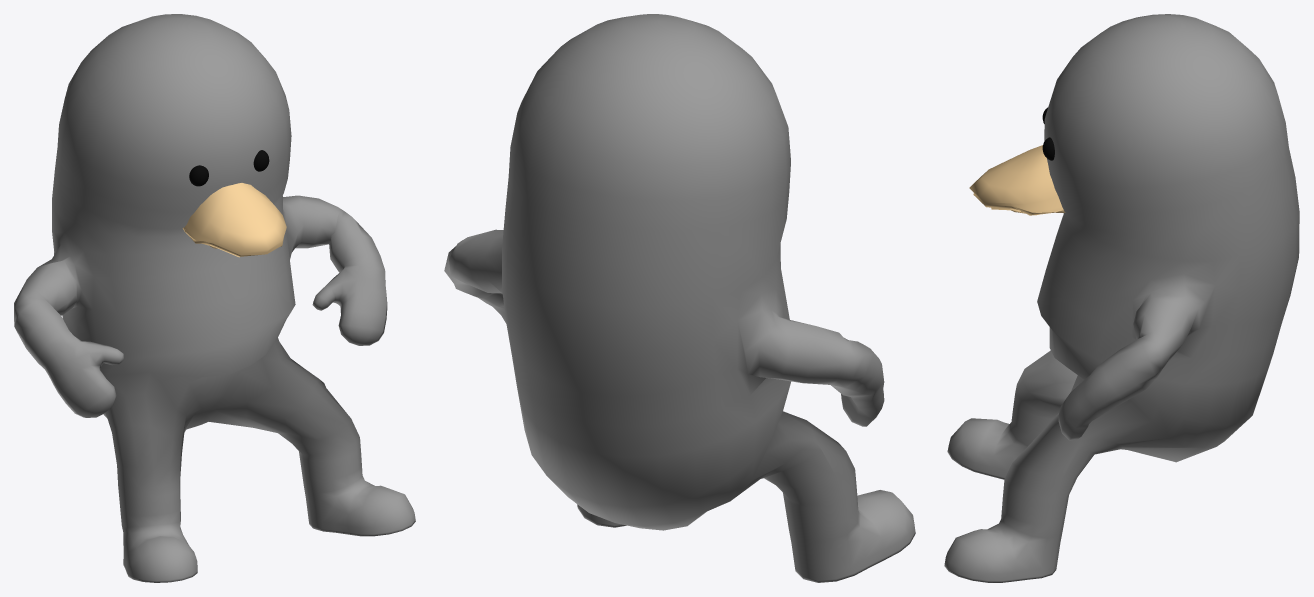
File: duck_sit2.FBX
3 views of the same model, side by side, from view 1: azimuth 30°, elevation 25°; view 2: azimuth 150°, elevation 25°; view 3: azimuth 270°, elevation 25° (orthographic). The views are drawn at different scales.
Visible parts, largest first — view 1: duck_sitdown2; view 2: duck_sitdown2; view 3: duck_sitdown2.
Boxes of the visible parts, left/top/right/bottom form: duck_sitdown2: left=14, top=14, right=415, bottom=582; duck_sitdown2: left=444, top=14, right=915, bottom=582; duck_sitdown2: left=944, top=14, right=1299, bottom=582.
Bounding box in the file's own units: 114 × 147 × 95.56.
